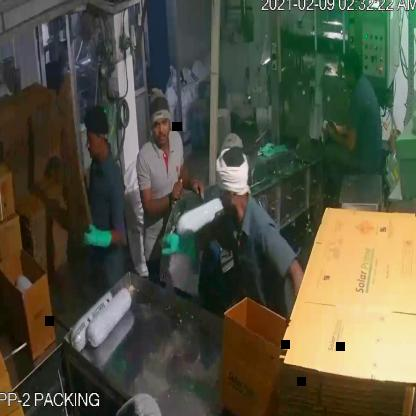glove: (160, 223, 202, 269), (84, 212, 116, 258)
no_glove: (324, 107, 364, 163), (134, 177, 184, 221), (180, 160, 206, 206)
